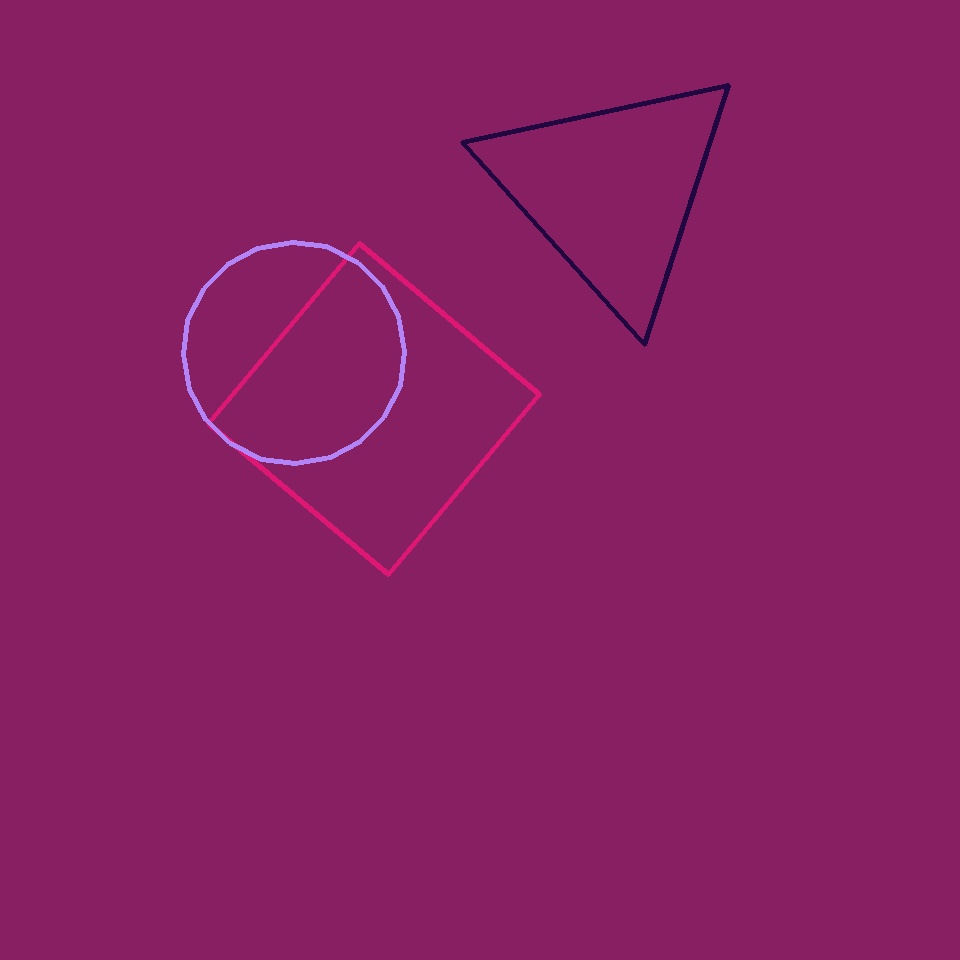circle: (479, 61, 745, 320)
square: (208, 244, 540, 574)
triangle: (184, 243, 404, 464)
